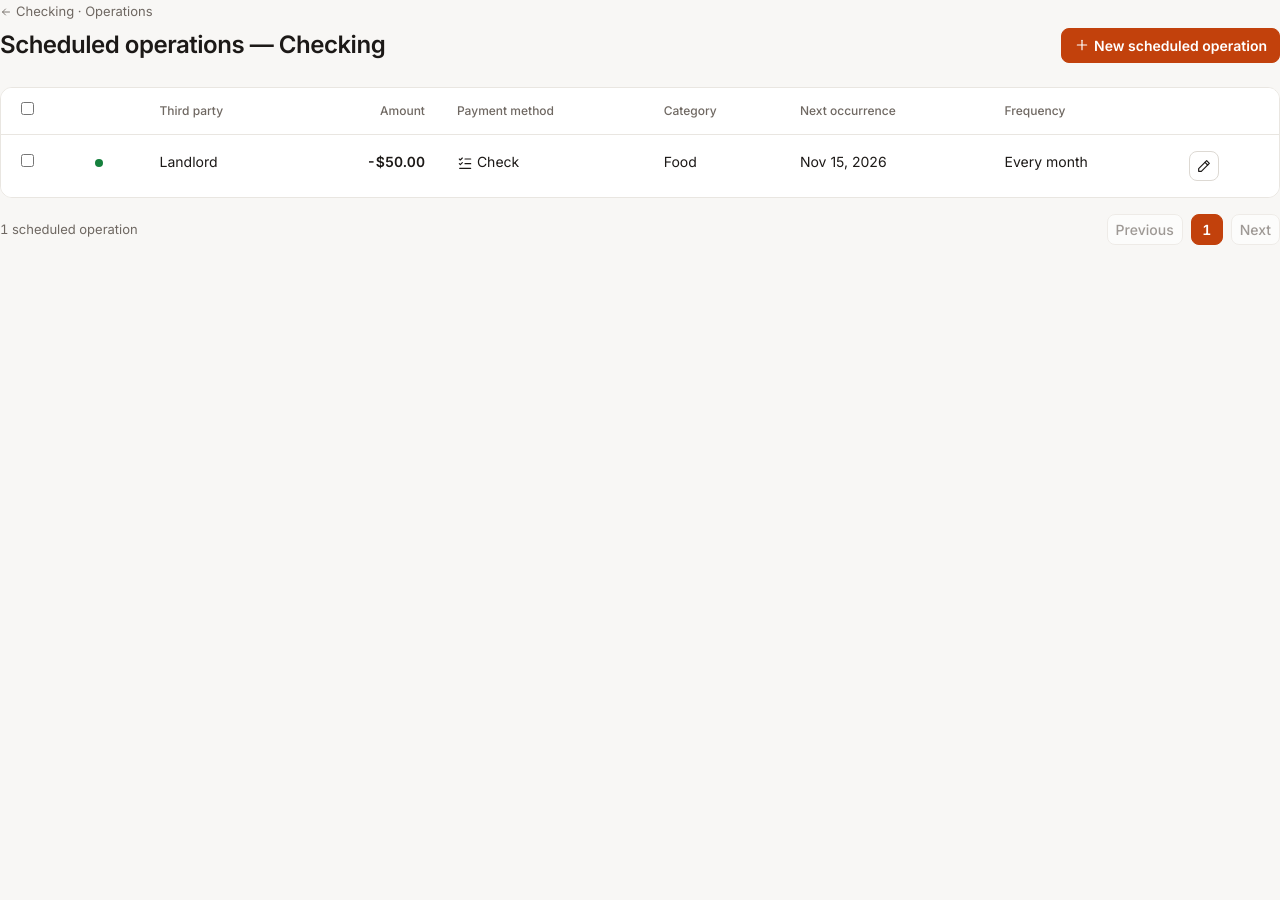
Test case: SchedulersPage › opens the edit form when a row is clicked
Click the row with test id "scheduler-row": (640, 166) [1,134,1279,197]
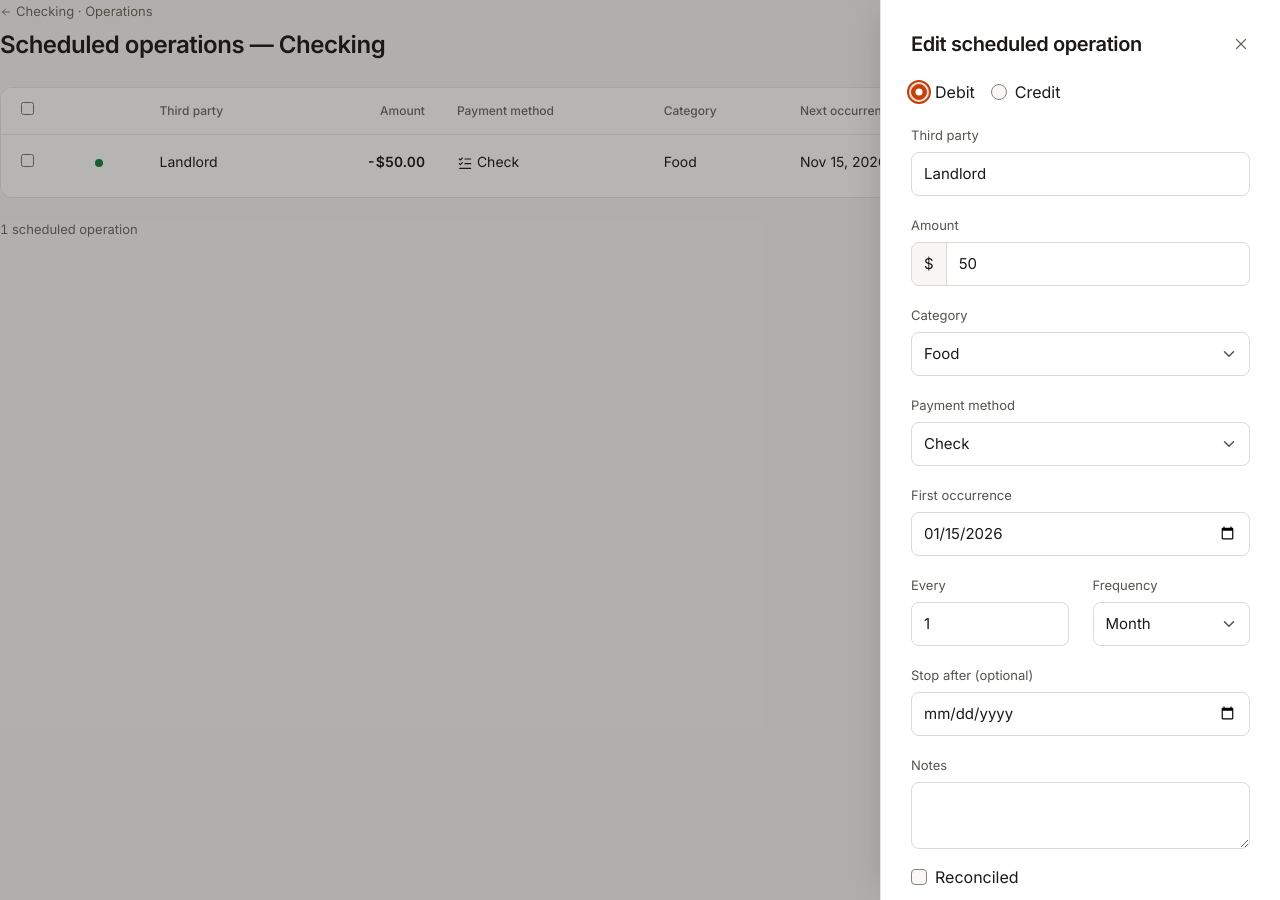
Now the field labelled "Third party" is shown, box [911,152,1250,196]
